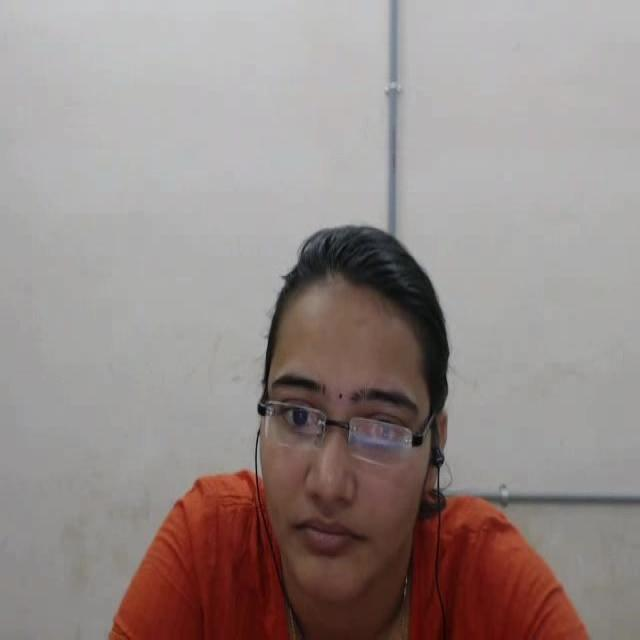Engaged: (229, 190, 467, 630)
